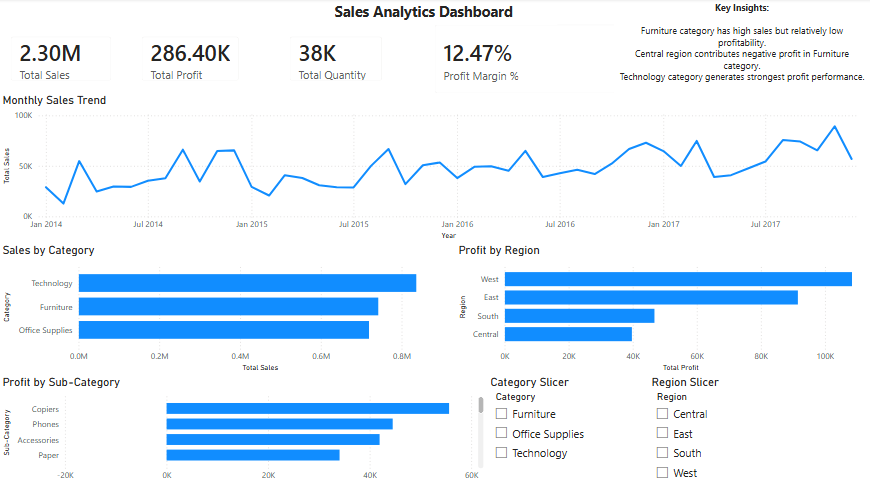

What the dashboard file says about the page in this screenshot:
{"tool":"powerbi","page":{"name":"Page 1","canvas":[1280,720],"ordinal":0},"visuals":[{"type":"cardVisual","fields":{"Data":["Sample - Superstore.Total Sales"]},"box":[0,39.7,182.2,99.9],"z":0},{"type":"cardVisual","fields":{"Data":["Sample - Superstore.Total Profit"]},"box":[192.5,39.7,177.8,99.9],"z":1000},{"type":"cardVisual","fields":{"Data":["Sample - Superstore.Total Quantity"]},"box":[410,39.7,170.4,99.9],"z":2000},{"type":"lineChart","title":"Monthly Sales Trend","fields":{"Y":["Sample - Superstore.Total Sales"],"Category":["Sample - Superstore.Order Date.Variation.Date Hierarchy.Year","Sample - Superstore.Order Date.Variation.Date Hierarchy.Quarter","Sample - Superstore.Order Date.Variation.Date Hierarchy.Month","Sample - Superstore.Order Date.Variation.Date Hierarchy.Day"]},"box":[0,139.6,1279.8,220.4],"z":3000},{"type":"barChart","title":"Sales by Category ","fields":{"Category":["Sample - Superstore.Category"],"Y":["Sample - Superstore.Total Sales"]},"box":[0,360,670,194],"z":4000},{"type":"barChart","title":"Profit by Region","fields":{"Category":["Sample - Superstore.Region"],"Y":["Sample - Superstore.Total Profit"]},"box":[670,360,609.8,194],"z":5000},{"type":"slicer","title":"Category Slicer","fields":{"Values":["Sample - Superstore.Category"]},"box":[717.1,554,236.6,166],"z":6000},{"type":"cardVisual","fields":{"Data":["Sample - Superstore.Profit Margin %"]},"box":[623,22,301.2,135.2],"z":7000},{"type":"textbox","box":[427.1,0,392.9,40],"z":8000},{"type":"slicer","title":"Region Slicer","fields":{"Values":["Sample - Superstore.Region"]},"box":[953.6,554,326.2,166],"z":9000},{"type":"barChart","title":"Profit by Sub-Category","fields":{"Category":["Sample - Superstore.Sub-Category"],"Y":["Sample - Superstore.Total Profit"]},"box":[0,554,717.1,166],"z":10000},{"type":"textbox","box":[903.7,0,376.2,169],"z":11000}]}

Visuals, with their boxes in screenshot pixels (x1, y1, x2, y2), scaled from the page's 1280x720 canvas onto the 870x488 screenshot:
cardVisual - Sample - Superstore.Total Sales: [0, 27, 124, 95]
cardVisual - Sample - Superstore.Total Profit: [131, 27, 252, 95]
cardVisual - Sample - Superstore.Total Quantity: [279, 27, 394, 95]
"Monthly Sales Trend" lineChart: [0, 95, 869, 244]
"Sales by Category " barChart: [0, 244, 455, 375]
"Profit by Region" barChart: [455, 244, 869, 375]
"Category Slicer" slicer: [487, 375, 648, 487]
cardVisual - Sample - Superstore.Profit Margin %: [423, 15, 628, 107]
textbox: [290, 0, 557, 27]
"Region Slicer" slicer: [648, 375, 869, 487]
"Profit by Sub-Category" barChart: [0, 375, 487, 487]
textbox: [614, 0, 869, 115]
